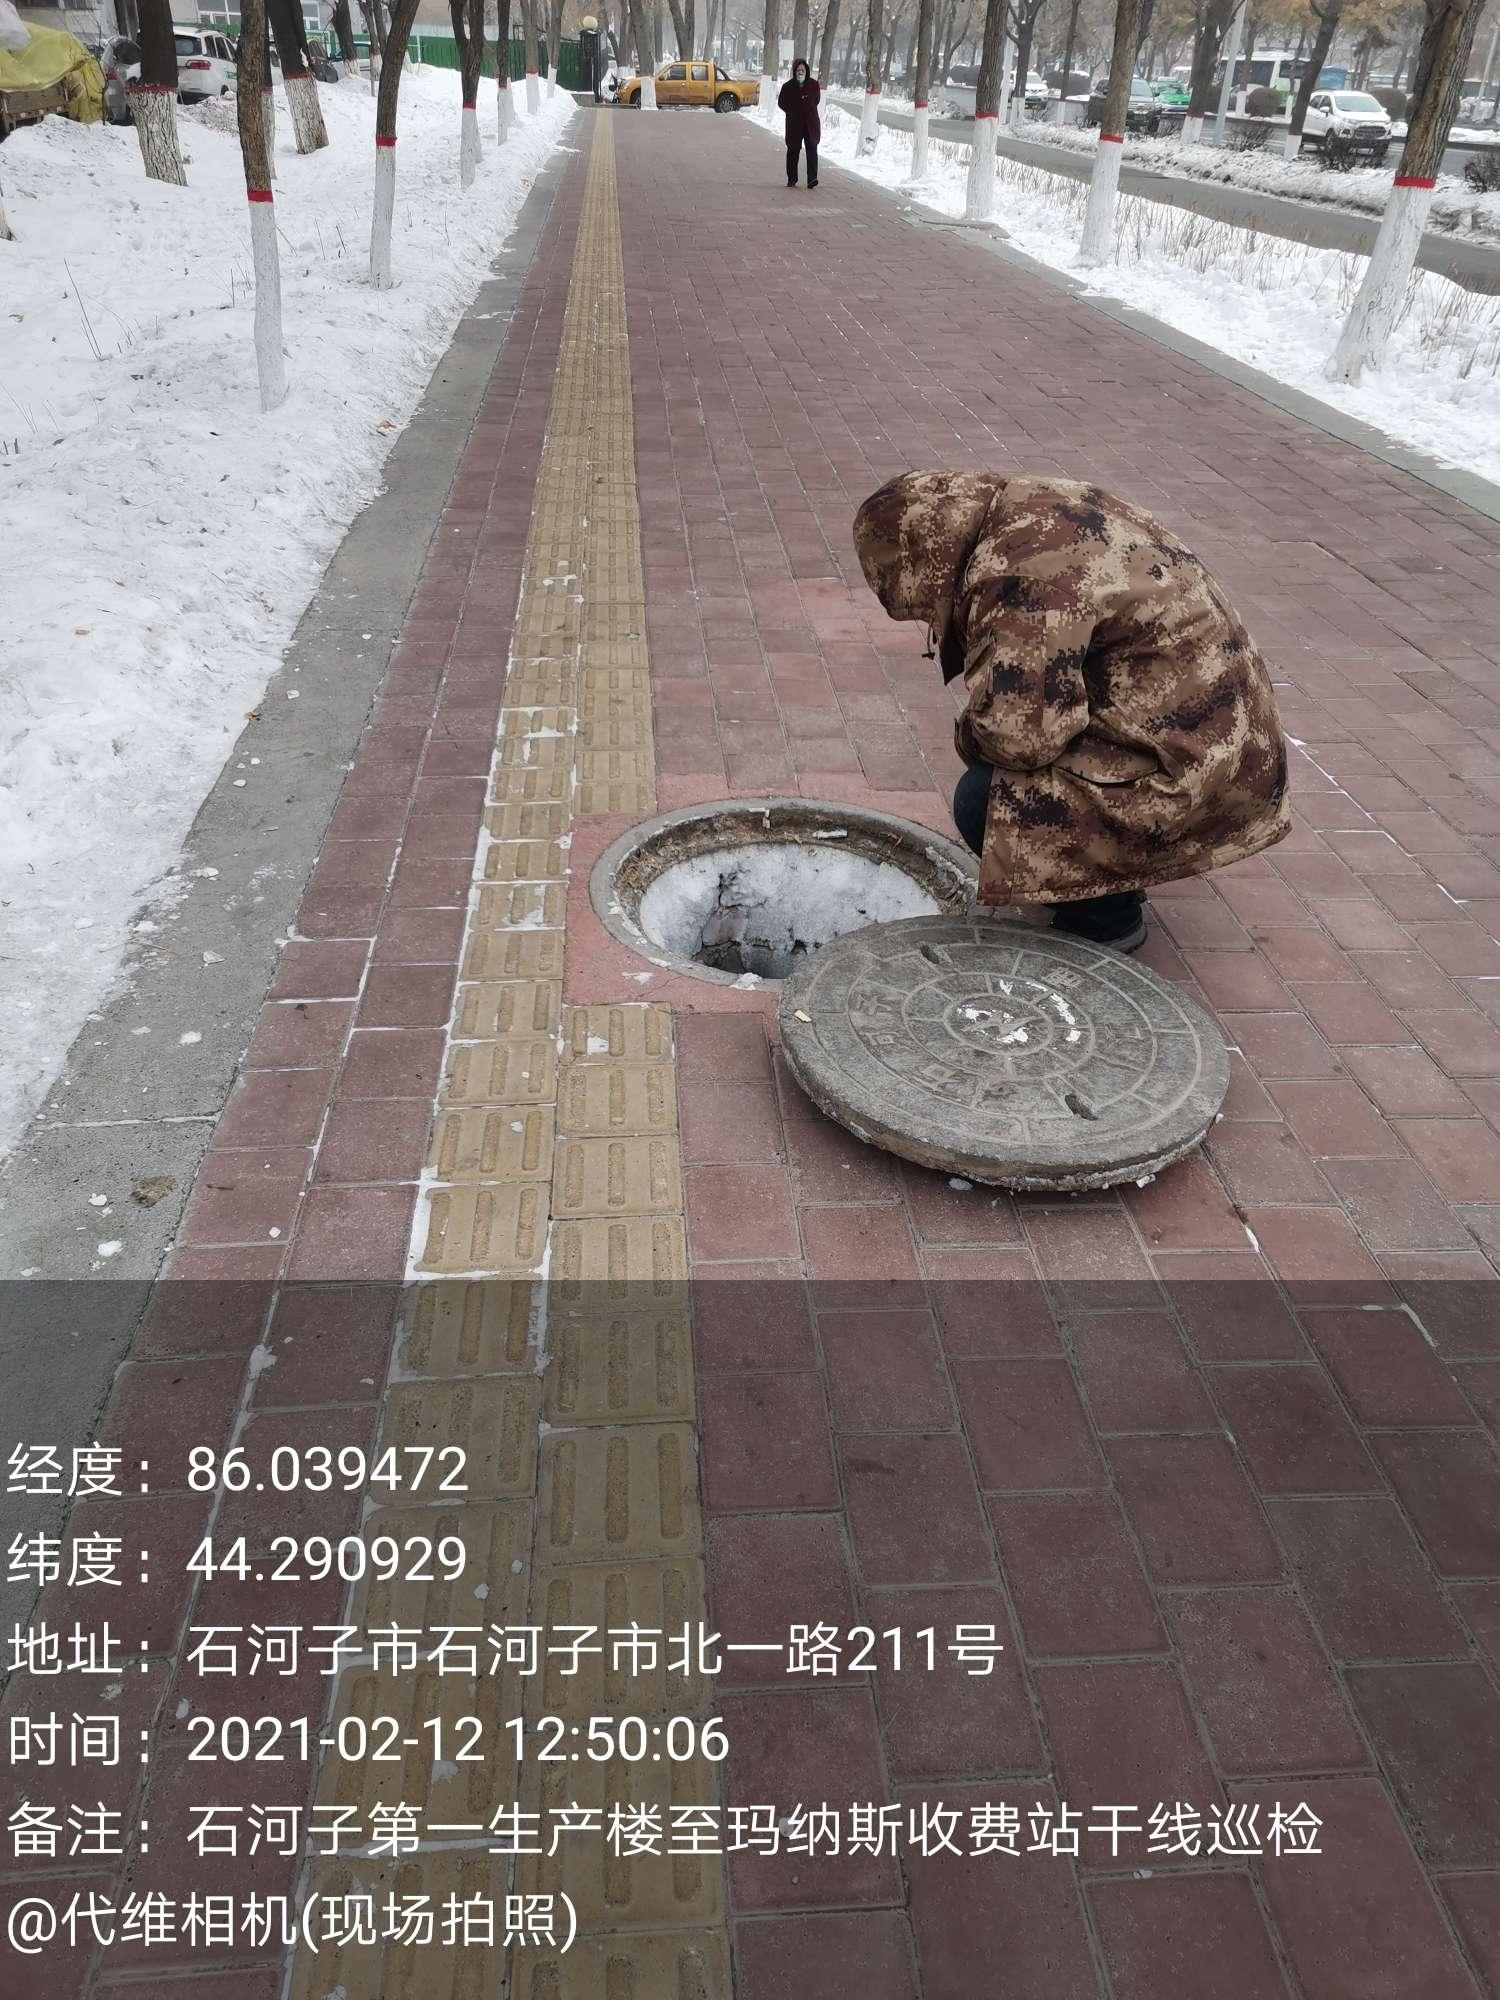wellcover: (534, 751, 1286, 1268)
